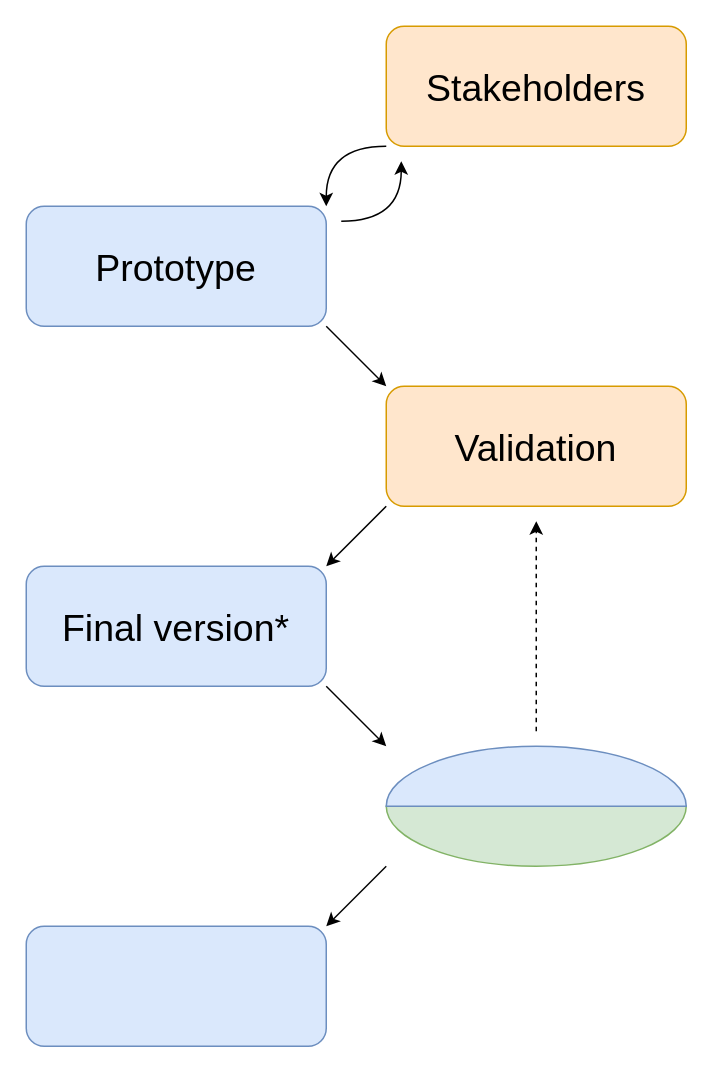
Image size: 713x1073. Some labels were removed from this diagram. The shapes that lost their labels are listed below. From the top down, each one's box as (x1, y1, x2, y2) in pixels, then its label:
(385, 745, 686, 806): Software Spreadsheet
(25, 925, 326, 1046): Software
